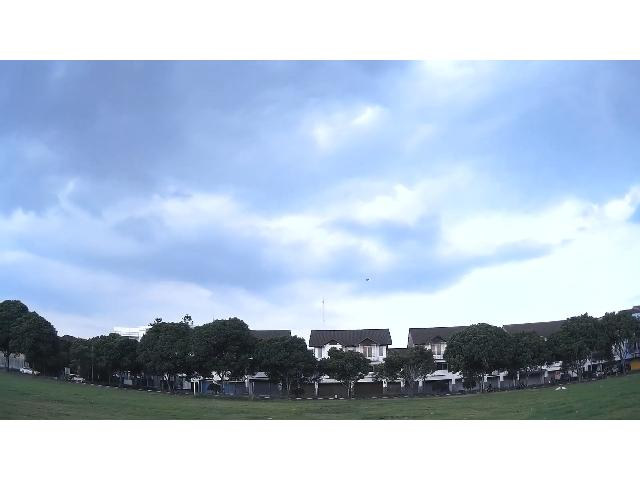Anti-Drone: (358, 273, 380, 285)
